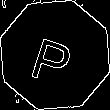P_N: (30, 25, 80, 85)
